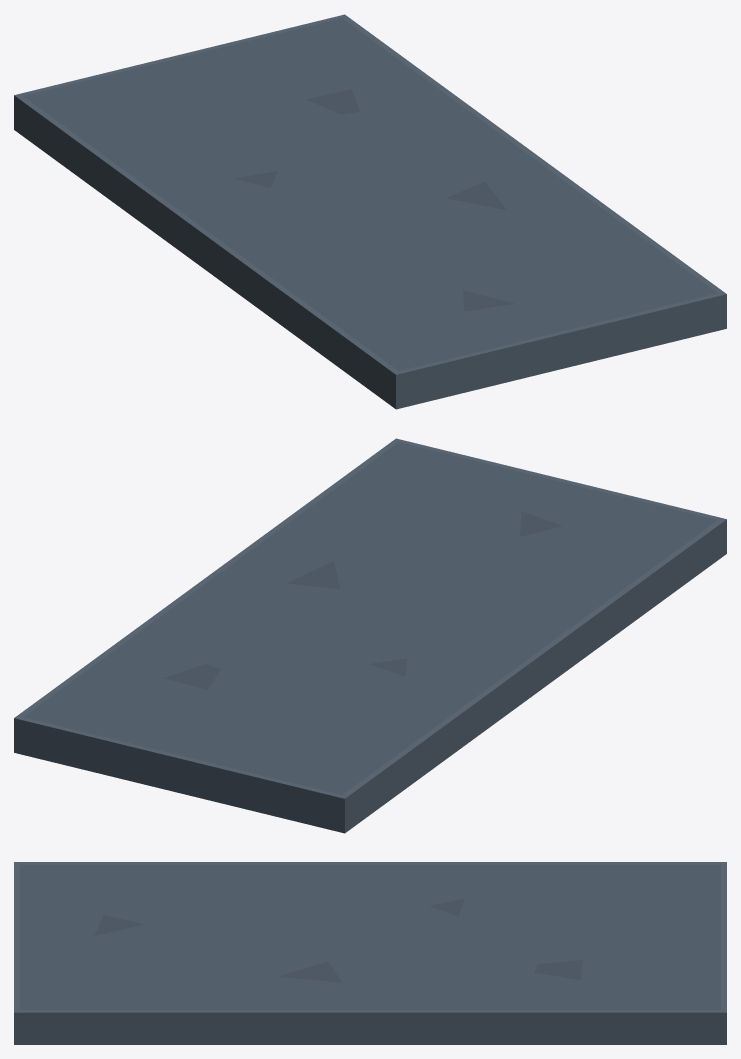
File: ConcrateSlabs_C_3_2.fbx
3 views of the same model, one above another, from view 1: azimuth 30°, elevation 25°; view 2: azimuth 150°, elevation 25°; view 3: azimuth 270°, elevation 25° (orthographic). The views are drawn at different scales.
Parts seen in each view (by area): view 1: ConcrateSlabs_C_3_2; view 2: ConcrateSlabs_C_3_2; view 3: ConcrateSlabs_C_3_2.
Boxes of the visible parts, box(x1,y1,x2,y2) form: ConcrateSlabs_C_3_2: box(14, 14, 726, 409); ConcrateSlabs_C_3_2: box(14, 438, 726, 833); ConcrateSlabs_C_3_2: box(14, 862, 726, 1044).
Bounding box in the file's own units: 400 × 40 × 800.
